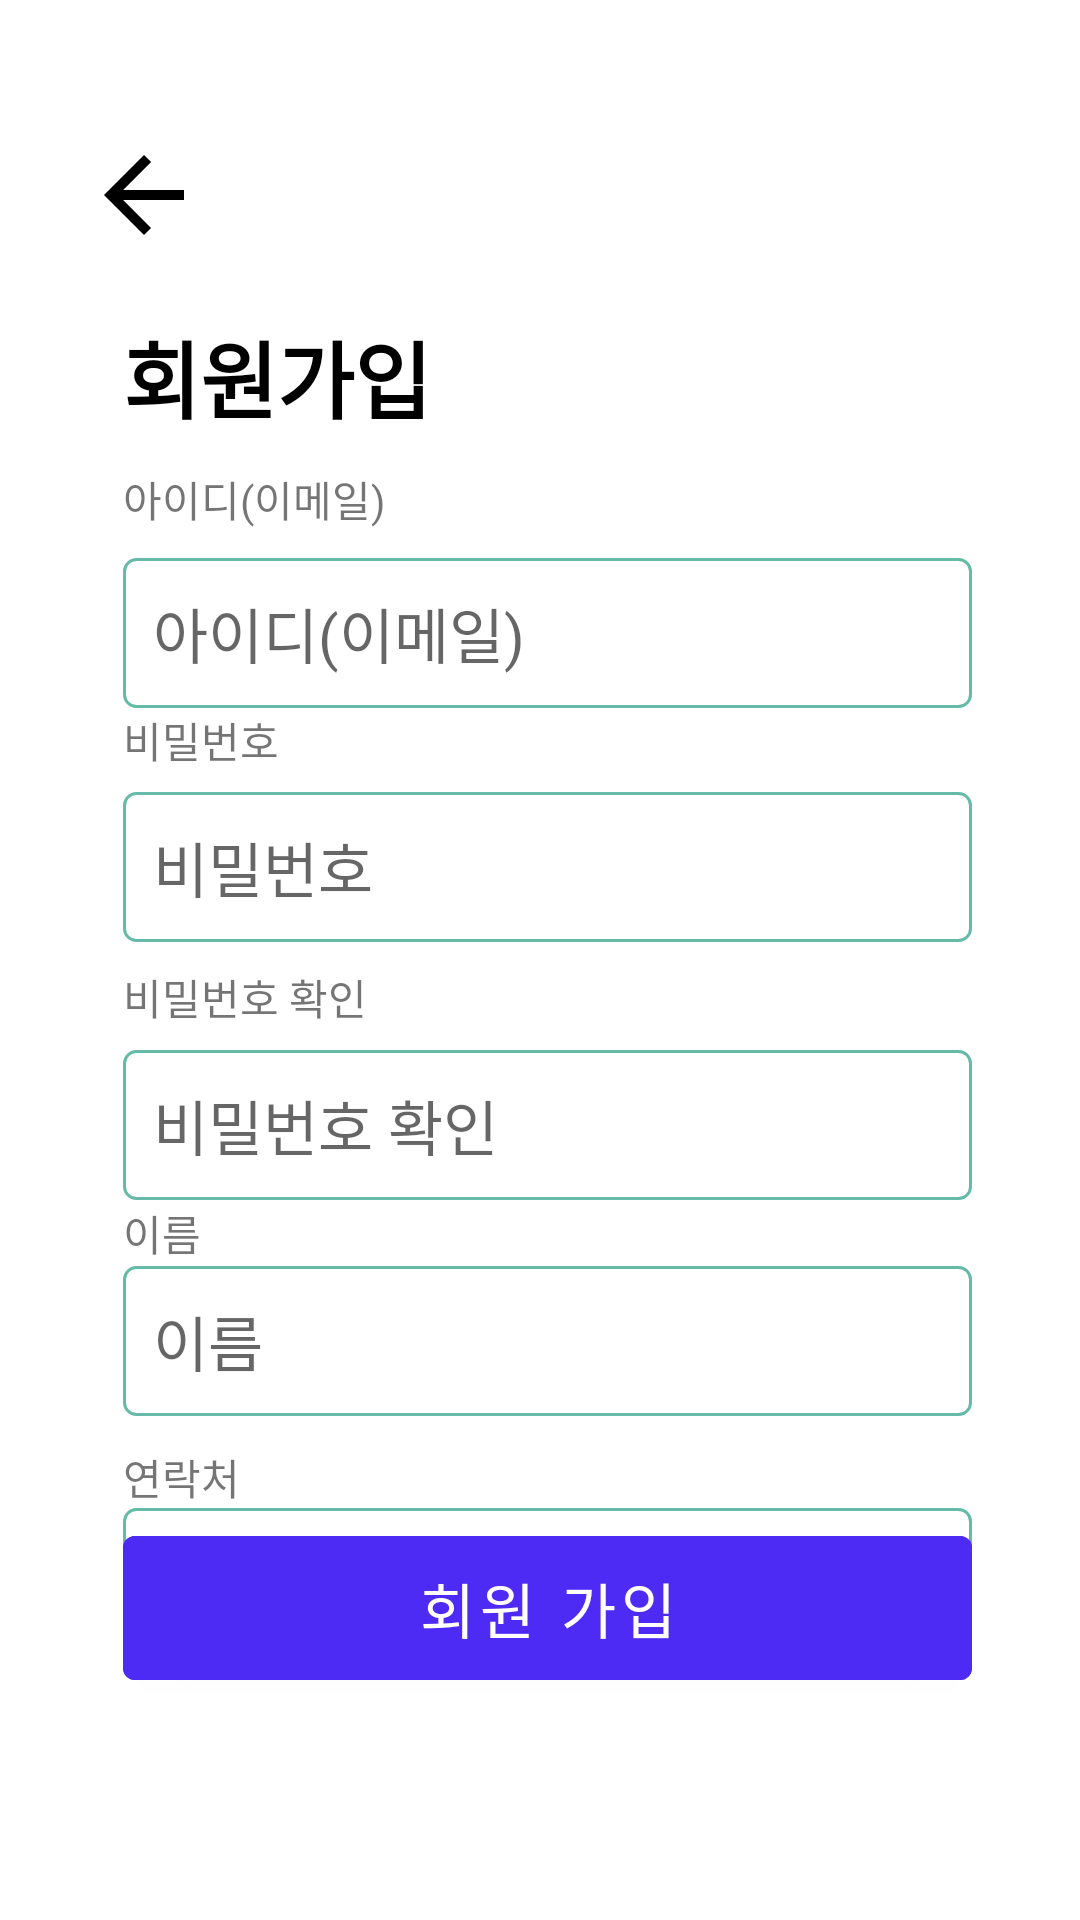

Icons on this 1080 x 1920 Android screen, each with its box as detection(x1, y1, x2, y2):
arrow back: detection(104, 155, 184, 235)
